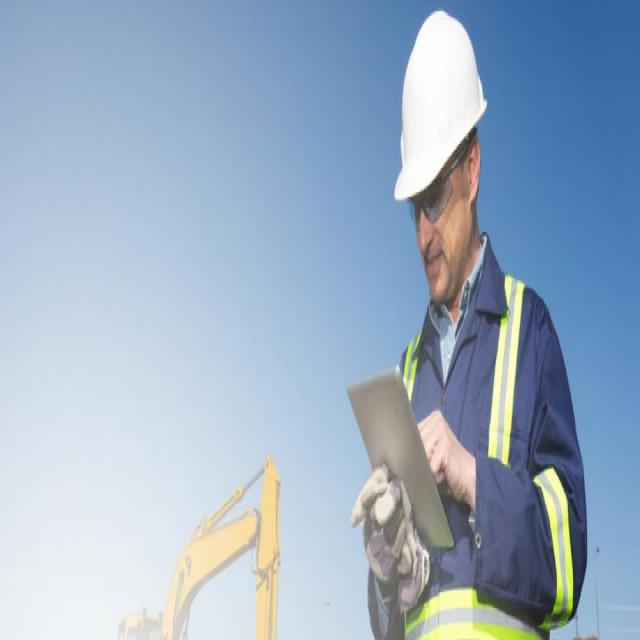Reflective-Jacket: (391, 264, 574, 640)
Safety-Helmet: (391, 6, 488, 213)
